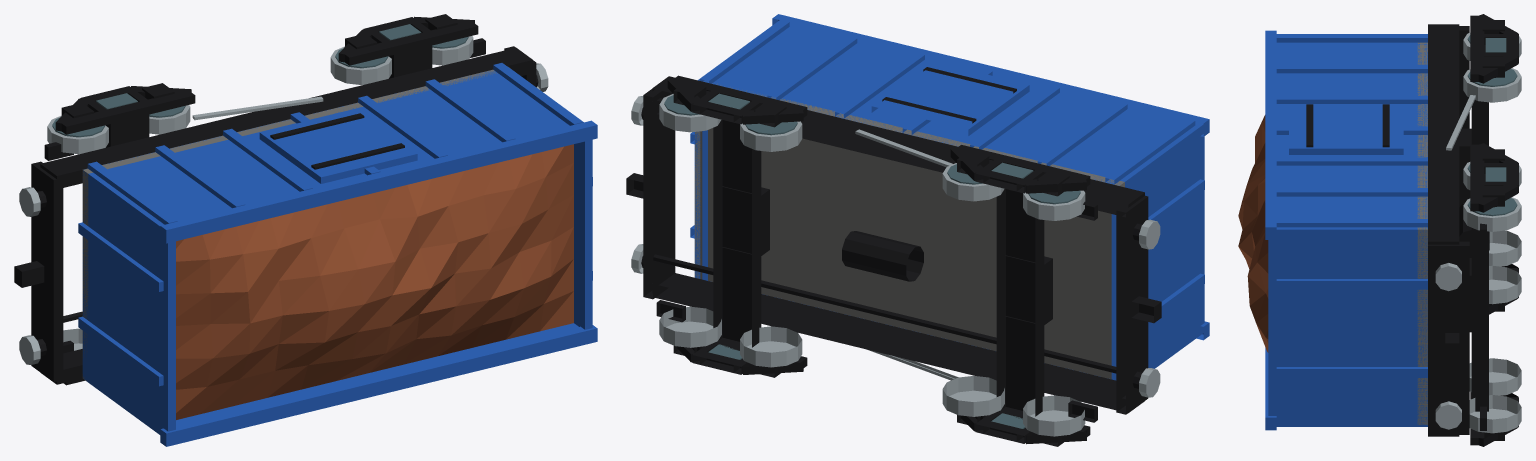
The model's file is loaded.glb.
3 renders of one model, left to right at view 1: azimuth 30°, elevation 25°; view 2: azimuth 150°, elevation 25°; view 3: azimuth 270°, elevation 25°, orthographic. The views are drawn at different scales.
Visible parts, largest first — view 1: loaded_load, loaded_body, loaded_solebar1, loaded_bogie-1, loaded_bogie1, loaded_side1_-0.75_2.35, loaded_headstock-1, loaded_buffers-1, loaded_brake_lever1, loaded_solebar-1, loaded_side1_-0.70_2.55, loaded_side1_-0.70_3.65; view 2: loaded_body, loaded_bogie1, loaded_bogie-1, loaded_solebar-1, loaded_headstock1, loaded_side1_-0.75_2.35, loaded_headstock-1, loaded_solebar1, loaded_brake_cylinder, loaded_brake_pipe, loaded_buffers-1, loaded_buffers1 (+3 smaller); view 3: loaded_body, loaded_bogie1, loaded_bogie-1, loaded_solebar1, loaded_headstock1, loaded_side1_-0.75_2.35, loaded_load, loaded_buffers1, loaded_pivot-1, loaded_headstock-1, loaded_brake_lever1, loaded_brake_cylinder (+2 smaller).
Boxes of the visible parts, <box> form: loaded_load: <box>176,144,573,419</box>; loaded_body: <box>78,63,597,446</box>; loaded_solebar1: <box>40,47,532,189</box>; loaded_bogie-1: <box>47,83,195,385</box>; loaded_bogie1: <box>330,14,478,84</box>; loaded_side1_-0.75_2.35: <box>259,109,417,183</box>; loaded_headstock-1: <box>31,161,63,381</box>; loaded_buffers-1: <box>14,187,46,364</box>; loaded_brake_lever1: <box>192,96,323,120</box>; loaded_solebar-1: <box>41,349,82,384</box>; loaded_side1_-0.70_2.55: <box>270,113,364,139</box>; loaded_side1_-0.70_3.65: <box>311,143,404,169</box>; loaded_body: <box>690,14,1209,380</box>; loaded_bogie1: <box>659,75,807,377</box>; loaded_bogie-1: <box>942,145,1090,446</box>; loaded_solebar-1: <box>652,273,1144,412</box>; loaded_headstock1: <box>643,89,675,299</box>; loaded_side1_-0.75_2.35: <box>871,61,1029,136</box>; loaded_headstock-1: <box>1116,195,1148,414</box>; loaded_solebar1: <box>652,76,1144,217</box>; loaded_brake_cylinder: <box>842,231,923,281</box>; loaded_brake_pipe: <box>653,254,1116,373</box>; loaded_buffers-1: <box>1131,219,1161,397</box>; loaded_buffers1: <box>626,96,652,273</box>; loaded_body: <box>1265,30,1427,430</box>; loaded_bogie1: <box>1463,143,1521,446</box>; loaded_bogie-1: <box>1463,14,1521,314</box>; loaded_solebar1: <box>1428,24,1459,244</box>; loaded_headstock1: <box>1428,241,1469,434</box>; loaded_side1_-0.75_2.35: <box>1289,104,1403,154</box>; loaded_load: <box>1238,115,1268,352</box>; loaded_buffers1: <box>1435,263,1461,429</box>; loaded_pivot-1: <box>1459,128,1471,202</box>; loaded_headstock-1: <box>1459,26,1469,206</box>; loaded_brake_lever1: <box>1446,95,1475,150</box>; loaded_brake_cylinder: <box>1459,202,1489,257</box>.
Bounding box in the file's own units: 8.2 × 3.9 × 4.08.
